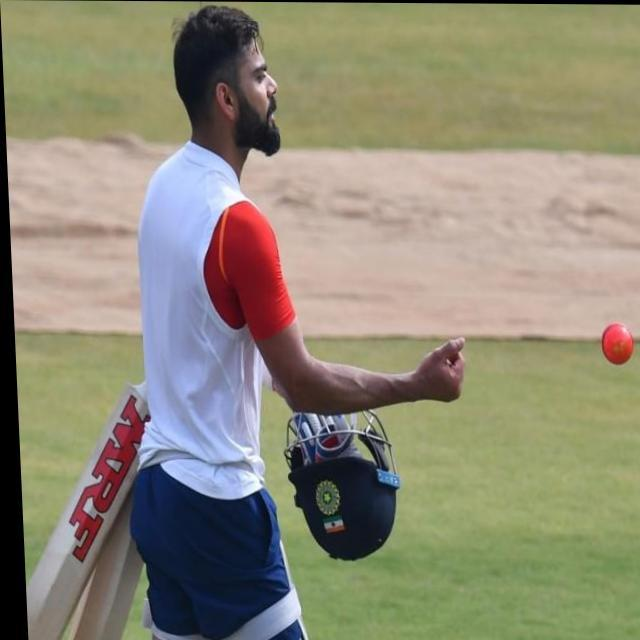cricket ball: (599, 321, 631, 365)
